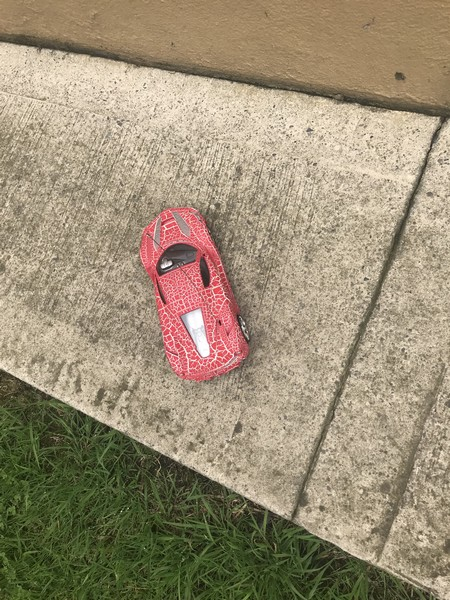RC: (137, 203, 254, 385)
